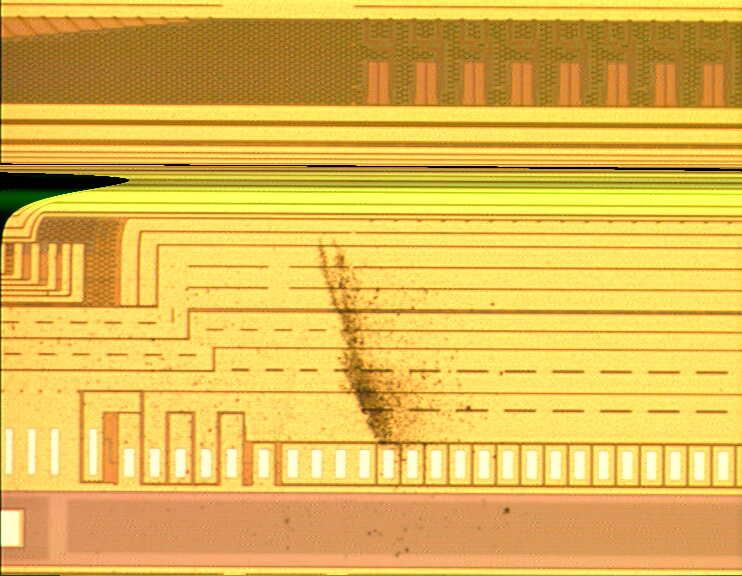PO CONTAMINATION: (5, 232, 537, 570)
